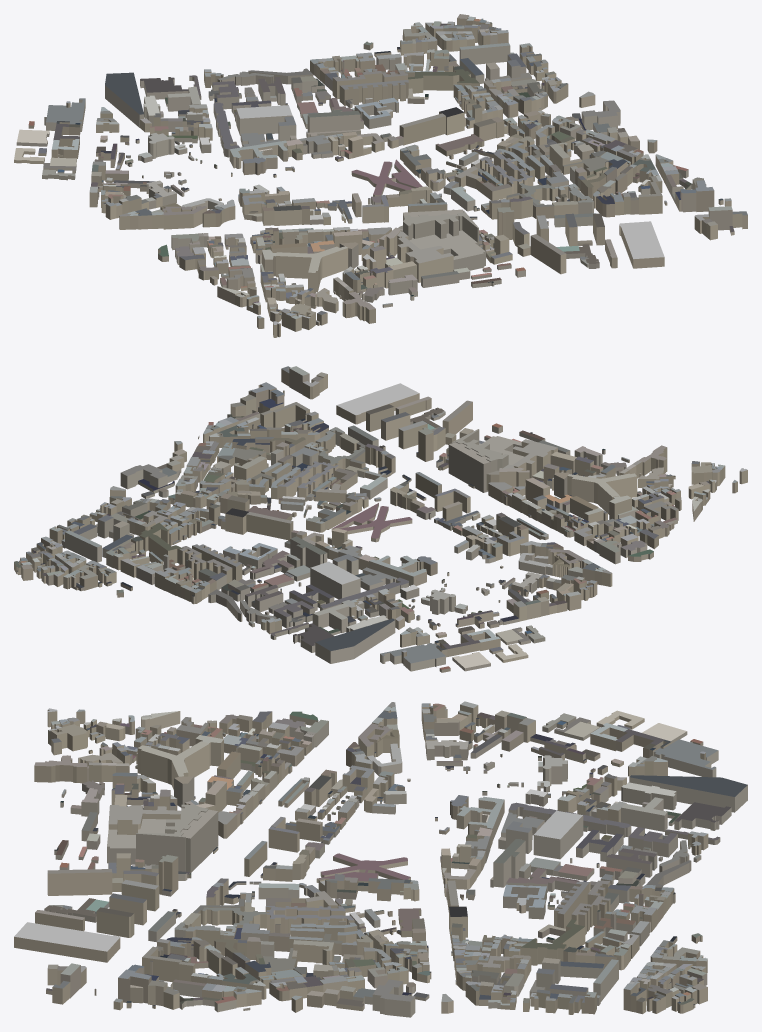
3 views of the same model, one above another, from view 1: azimuth 30°, elevation 25°; view 2: azimuth 150°, elevation 25°; view 3: azimuth 270°, elevation 25° (orthographic). The views are drawn at different scales.
Parts seen in each view (by area): view 1: tuile; view 2: tuile; view 3: tuile.
Boxes of the visible parts, x1,y1,x2,y2 form: tuile: (14,14,747,337); tuile: (14,366,747,672); tuile: (14,701,747,1017).
Size of the model in its own units: 1049 by 68.59 by 1119.
